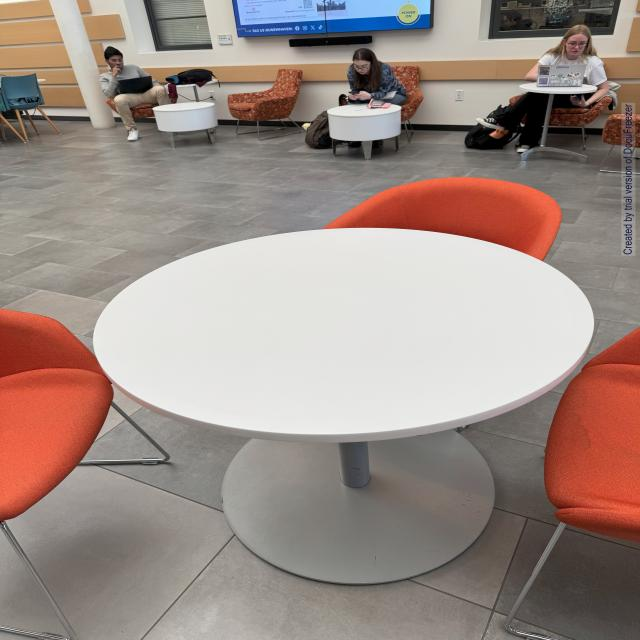Table: (85, 216, 600, 640)
